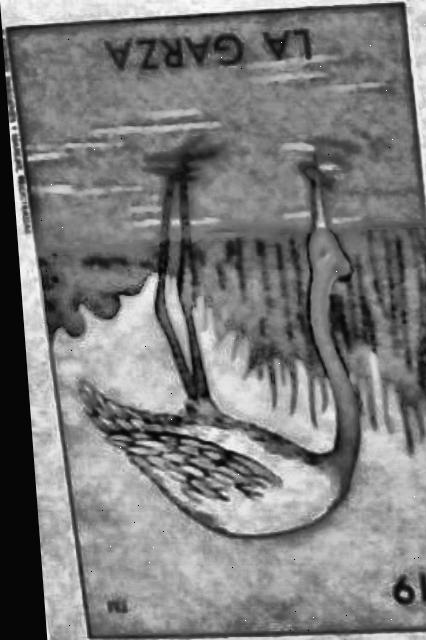El Garza: (3, 3, 426, 634)
